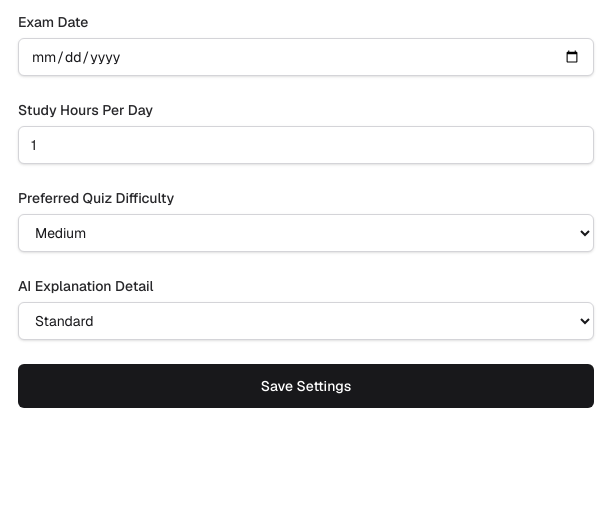
Test case: SettingsForm › shows validation messages below fields
The width and height of the screenshot is (613, 529).
Clear the date field labelled "Exam Date": (306, 57) [18,38,594,76]
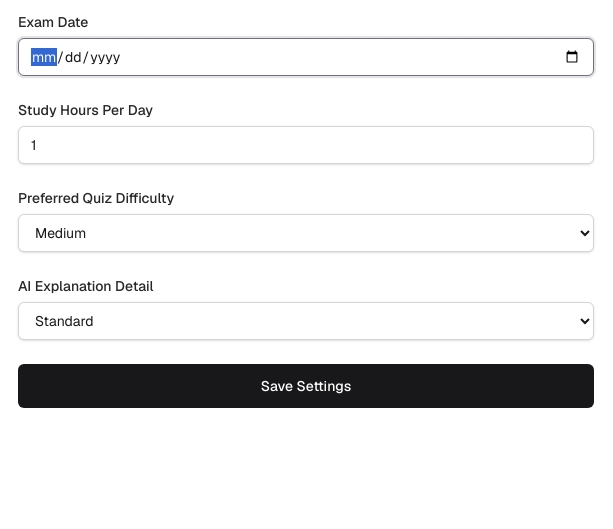
Clear the number field labelled "Study Hours Per Day": (306, 145) [18,126,594,164]
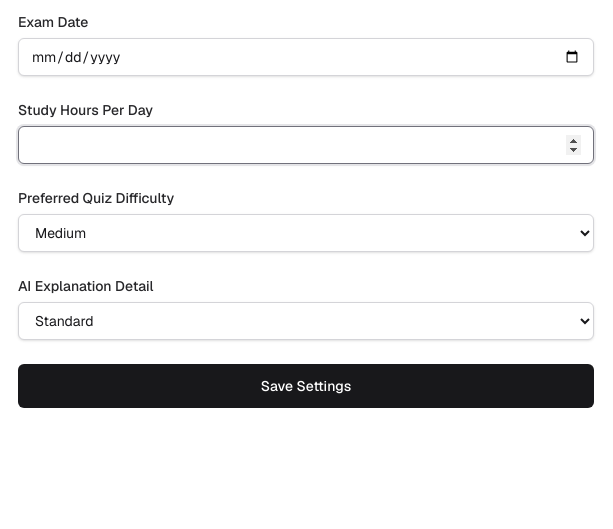
Select "Select difficulty" in the dropdown labelled "Preferred Quiz Difficulty": (306, 233) [18,214,594,252]
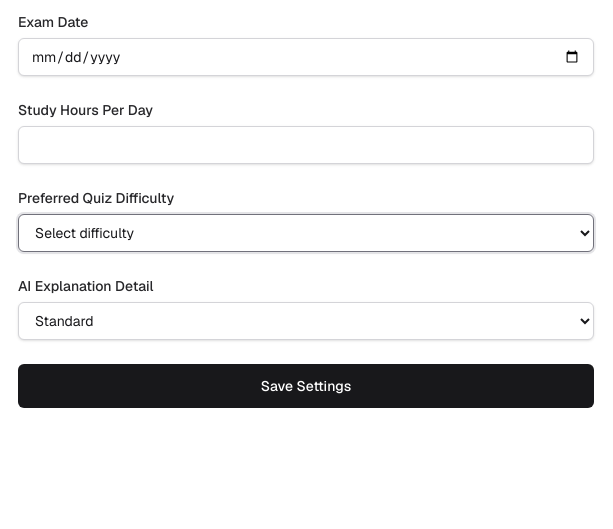
Select "Select detail level" in the dropdown labelled "AI Explanation Detail": (306, 321) [18,302,594,340]
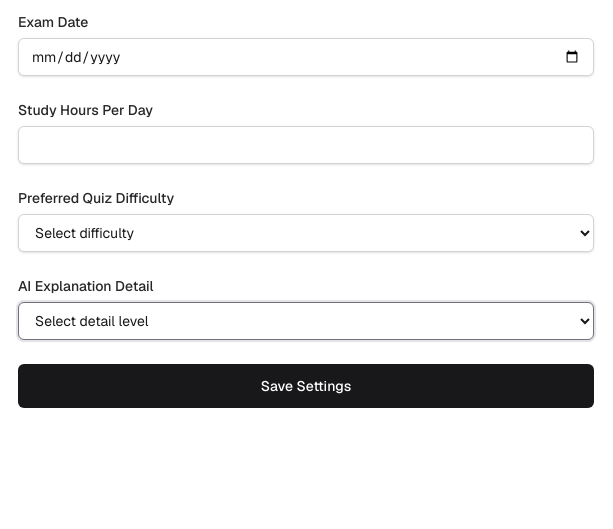
Click the button "Save Settings": (306, 386) [18,364,594,408]
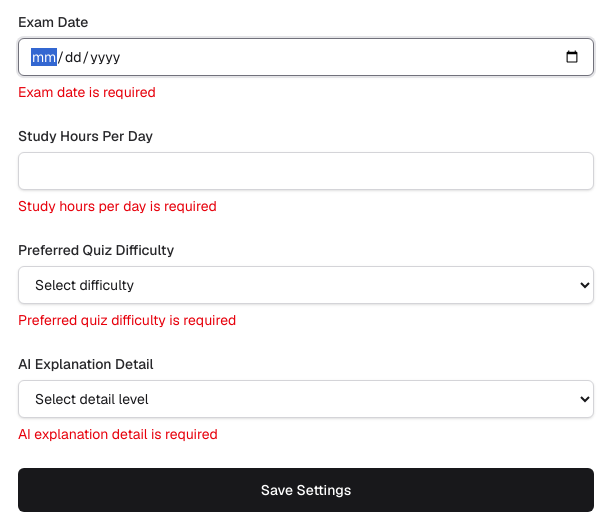
Check: the text "Exam date is required" is shown, box [18,83,156,101]
Check: the text "Study hours per day is required" is shown, box [18,197,217,215]
Check: the text "Preferred quiz difficulty is required" is shown, box [18,311,236,329]
